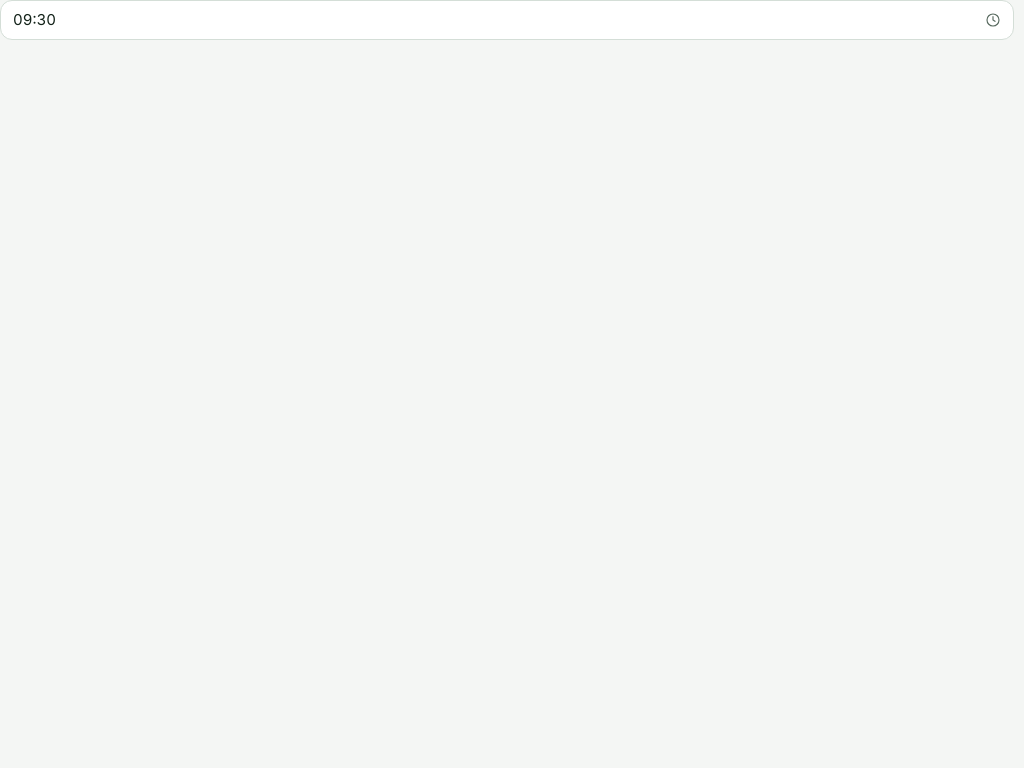
Test: NuqtaTimePicker › opens a wheel dialog with an hour and a minute column
This screenshot has width=1024, height=768.
Click the dropdown named "Pick time".
click(34, 20)  # box [0,0,1014,40]
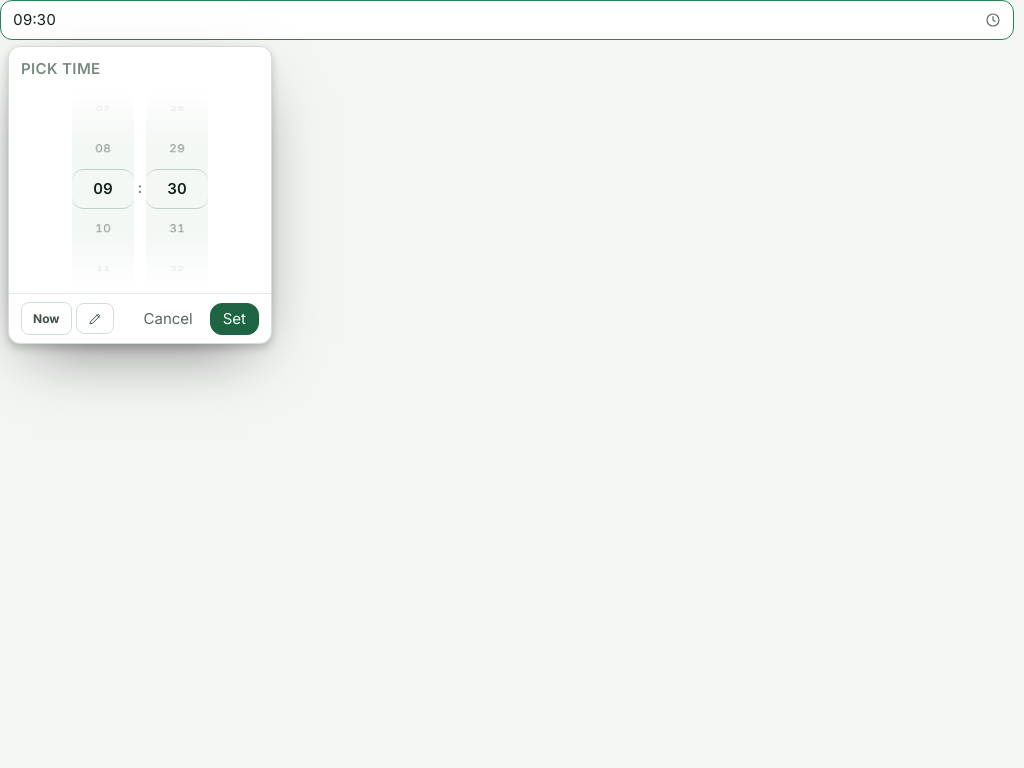
Expected: the dialog is shown, [8,46,272,344]
Expected: the number of lists is 2, [72,89,134,289]; [146,89,208,289]
Expected: the list named "Hour" is shown, [72,89,134,289]
